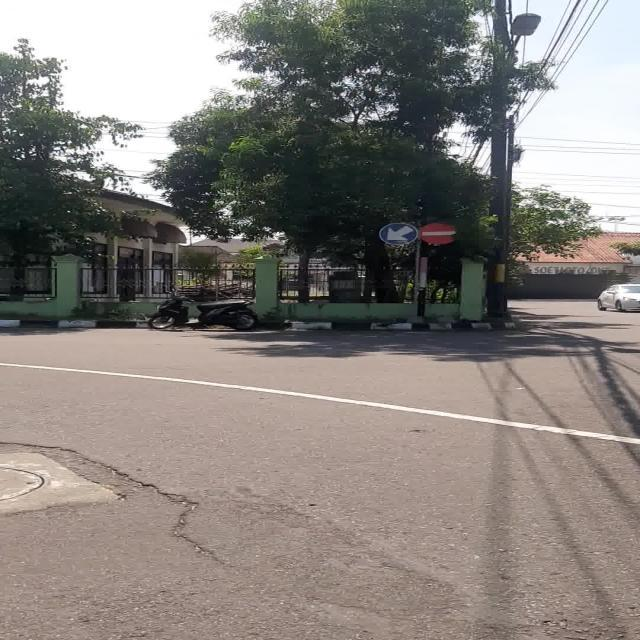Lajur Kiri: (379, 223, 418, 245)
